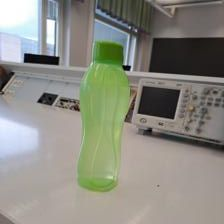bottle: (73, 43, 133, 194)
